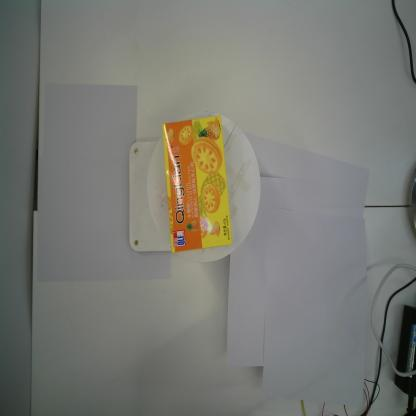Dessert: (161, 114, 233, 256)
